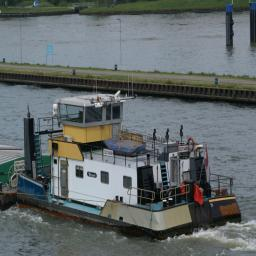tugboat: (17, 90, 245, 247)
